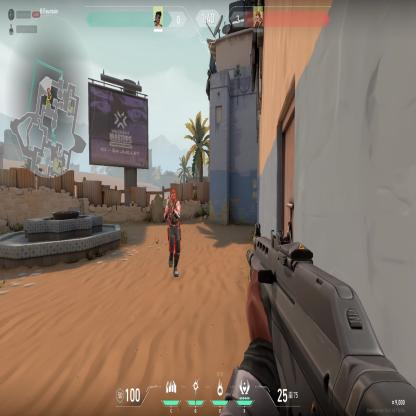enemy: (165, 189, 181, 277)
